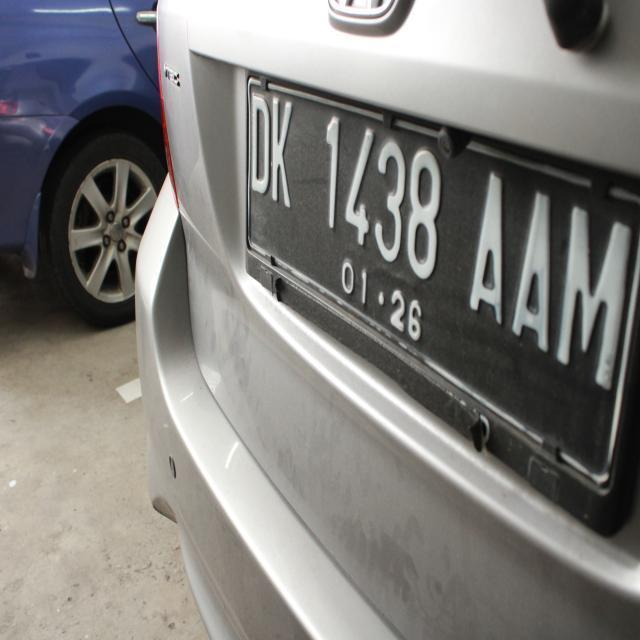1: (316, 105, 343, 234)
3: (372, 119, 405, 273)
4: (341, 113, 373, 249)
8: (404, 130, 444, 290)
A: (512, 170, 558, 362), (462, 151, 508, 329)
D: (237, 77, 270, 199)
K: (264, 94, 302, 214)
M: (553, 184, 628, 407)
